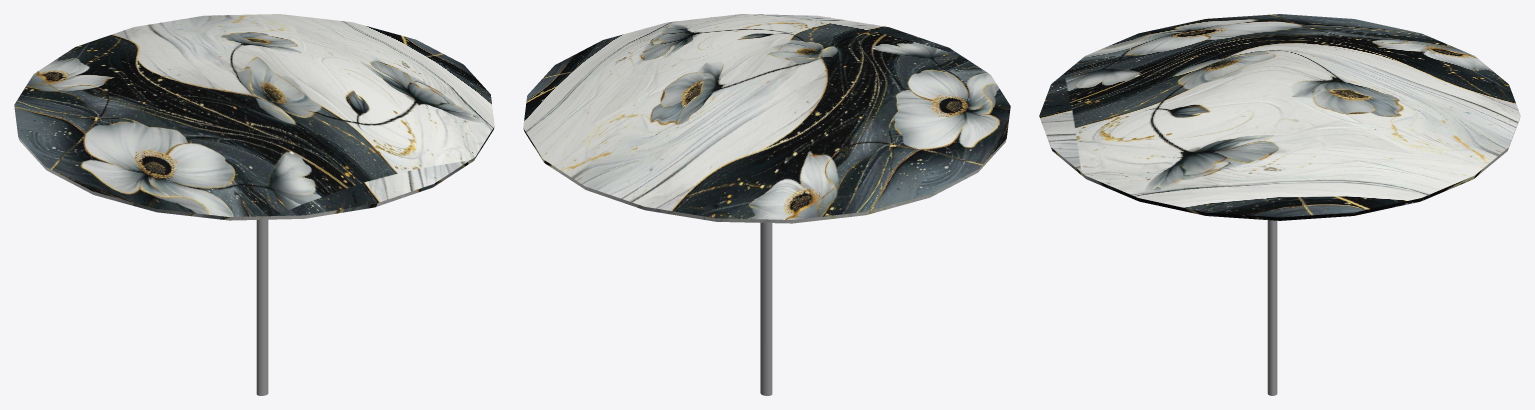
The model's file is umbrella3.fbx.
The picture shows the model from 3 angles, left to right: view 1: azimuth 30°, elevation 25°; view 2: azimuth 150°, elevation 25°; view 3: azimuth 270°, elevation 25°; orthographic projection.
Visible parts, largest first — view 1: pCone3, pCylinder51; view 2: pCone3, pCylinder51; view 3: pCone3, pCylinder51.
Boxes of the visible parts, x1=… form: pCone3: x1=14, y1=14, x2=494, y2=220; pCylinder51: x1=256, y1=219, x2=268, y2=395; pCone3: x1=523, y1=14, x2=1010, y2=223; pCylinder51: x1=760, y1=223, x2=772, y2=395; pCone3: x1=1039, y1=14, x2=1520, y2=220; pCylinder51: x1=1267, y1=220, x2=1277, y2=395.
Size of the model in its own units: 194 by 149 by 194.
